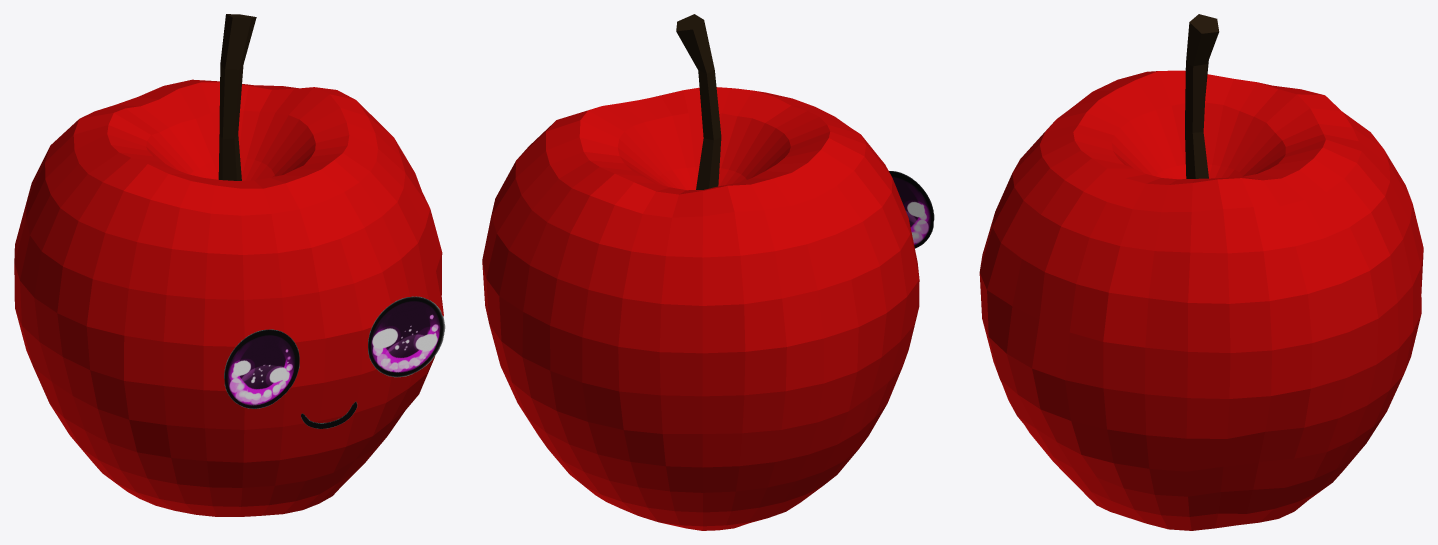
The model's file is Apple_000000.obj.
3 renders of one model, left to right at view 1: azimuth 30°, elevation 25°; view 2: azimuth 150°, elevation 25°; view 3: azimuth 270°, elevation 25°, orthographic. The views are drawn at different scales.
Parts seen in each view (by area): view 1: Bouncing_apple.001_Cylinder.005, Plane.002_Plane.003; view 2: Bouncing_apple.001_Cylinder.005, Plane.002_Plane.003; view 3: Bouncing_apple.001_Cylinder.005.
Boxes of the visible parts, box(x1,y1,x2,y2) form: Bouncing_apple.001_Cylinder.005: box(14, 14, 443, 516); Plane.002_Plane.003: box(224, 296, 445, 428); Bouncing_apple.001_Cylinder.005: box(482, 14, 919, 530); Plane.002_Plane.003: box(889, 171, 934, 248); Bouncing_apple.001_Cylinder.005: box(979, 14, 1423, 530).
Bounding box in the file's own units: 1.86 × 2.26 × 1.89.
